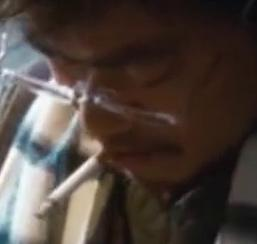smoke: (31, 150, 108, 220)
